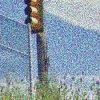traffic lights: (22, 0, 44, 32)
